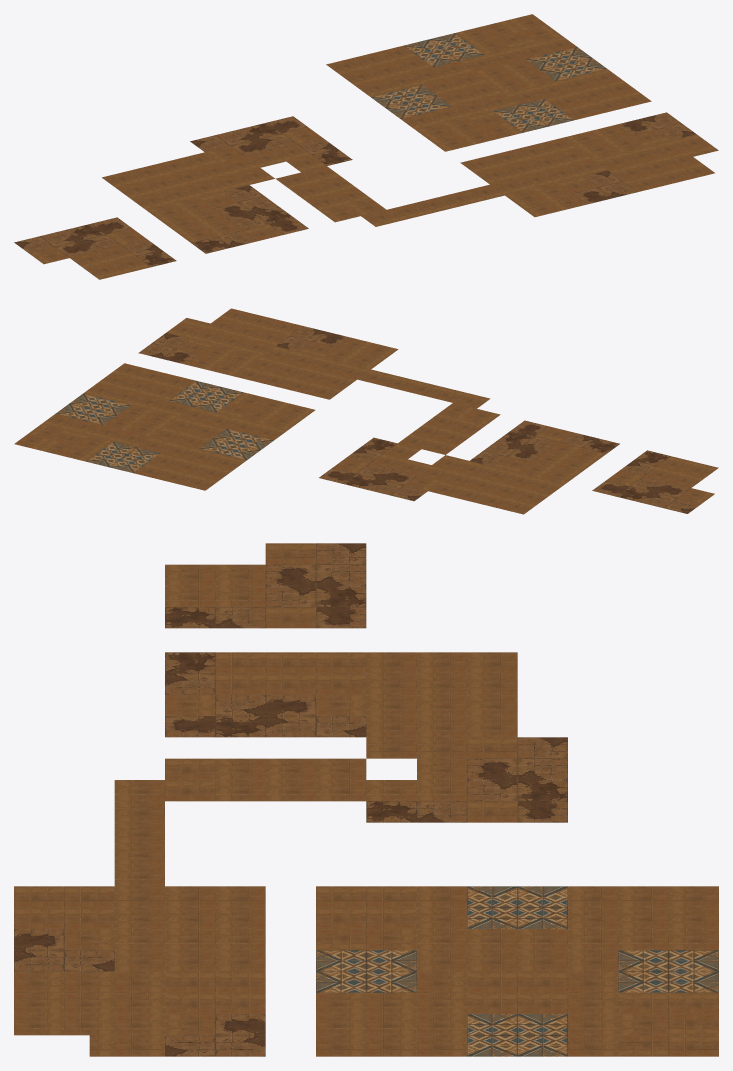
File: Pyramid_Grave6F_all.FBX
3 views of the same model, one above another, from view 1: azimuth 30°, elevation 25°; view 2: azimuth 150°, elevation 25°; view 3: azimuth 270°, elevation 25° (orthographic). The views are drawn at different scales.
Parts seen in each view (by area): view 1: Pyramid_Grave6F04, Pyramid_Grave6F03, Pyramid_Grave6F02, Pyramid_Grave6F002; view 2: Pyramid_Grave6F04, Pyramid_Grave6F03, Pyramid_Grave6F02, Pyramid_Grave6F002; view 3: Pyramid_Grave6F04, Pyramid_Grave6F03, Pyramid_Grave6F02, Pyramid_Grave6F002.
Boxes of the visible parts, x1,y1,x2,y2 form: Pyramid_Grave6F04: (326, 14, 651, 151); Pyramid_Grave6F03: (275, 112, 718, 226); Pyramid_Grave6F02: (102, 116, 352, 253); Pyramid_Grave6F002: (14, 217, 176, 279); Pyramid_Grave6F04: (14, 363, 315, 490); Pyramid_Grave6F03: (138, 308, 500, 454); Pyramid_Grave6F02: (319, 420, 619, 514); Pyramid_Grave6F002: (592, 450, 718, 513); Pyramid_Grave6F04: (316, 886, 718, 1056); Pyramid_Grave6F03: (14, 758, 366, 1056); Pyramid_Grave6F02: (165, 652, 567, 822); Pyramid_Grave6F002: (165, 543, 366, 628).
Size of the model in its own units: 96.48 by 2.29e-06 by 56.
